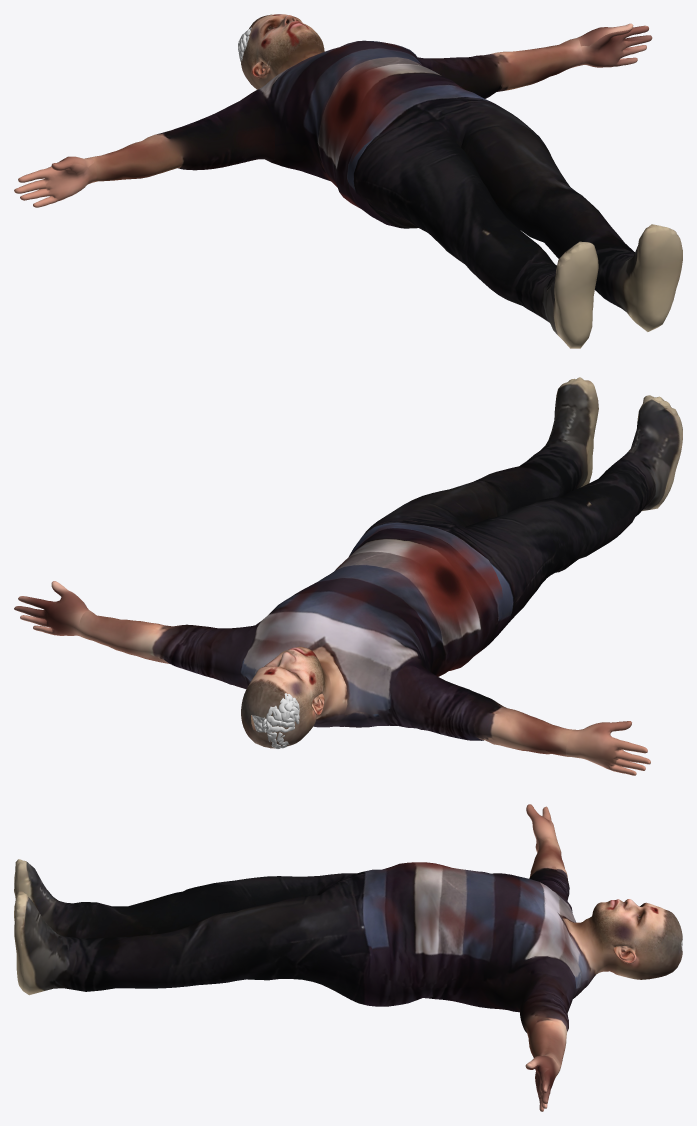
Rendered from brain.fbx.
3 views of the same model, one above another, from view 1: azimuth 30°, elevation 25°; view 2: azimuth 150°, elevation 25°; view 3: azimuth 270°, elevation 25° (orthographic). The views are drawn at different scales.
Parts seen in each view (by area): view 1: model_T; view 2: model_T, Brain_Part_04; view 3: model_T.
Part boxes in pixels (x1,y1,x2,y2): model_T: (14,14,682,348); model_T: (14,377,682,775); Brain_Part_04: (265,693,299,748); model_T: (14,804,682,1111).
Size of the model in its own units: 178 by 35.44 by 176.
